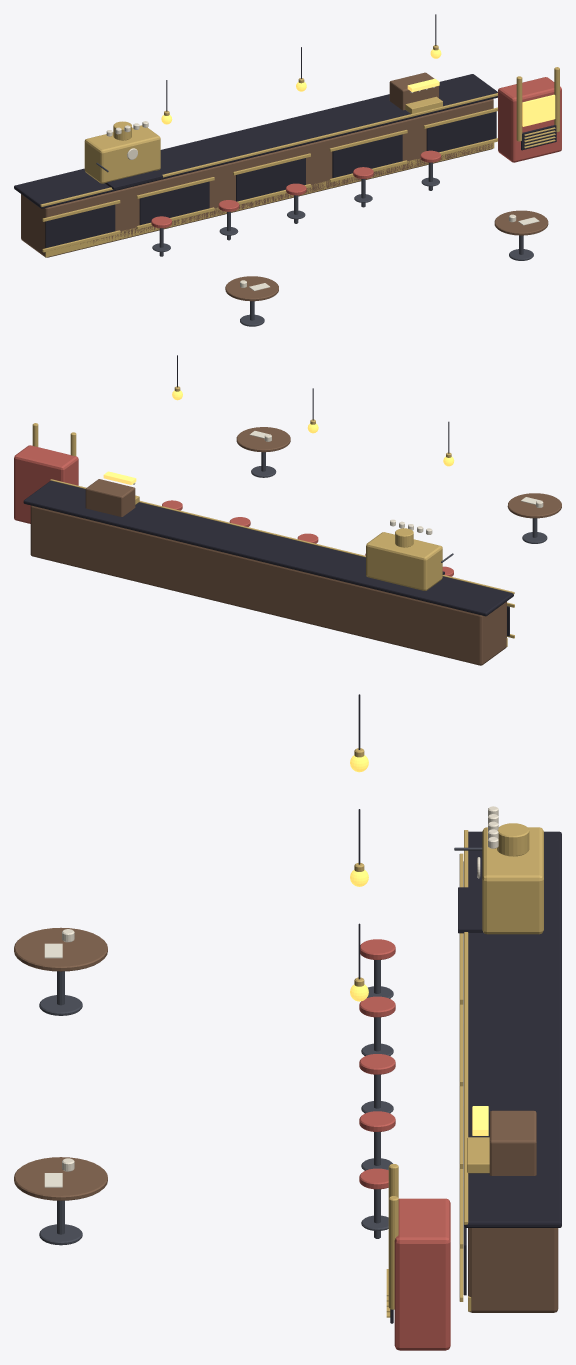
File: cafe-interior.glb
3 renders of one model, top to bottom at view 1: azimuth 30°, elevation 25°; view 2: azimuth 150°, elevation 25°; view 3: azimuth 270°, elevation 25°, orthographic. The views are drawn at different scales.
Parts seen in each view (by area): view 1: cafe long walnut counter body, cafe black stone counter top, espresso machine rounded brass body, jukebox red cabinet, cafe brass kickplate, cafe counter inset panel 0, cafe counter inset panel 4, cafe counter inset panel 1, cafe counter inset panel 3, cafe counter inset panel 2, cafe brass counter nosing, cash register dark base (+7 smaller); view 2: cafe long walnut counter body, cafe black stone counter top, espresso machine rounded brass body, jukebox red cabinet, cash register dark base, round cafe table top 0, round cafe table top 1, cafe brass counter nosing; view 3: cafe black stone counter top, jukebox red cabinet, cafe long walnut counter body, espresso machine rounded brass body, cash register dark base, round cafe table top 0, round cafe table top 1, cafe brass counter nosing, espresso black drip tray, espresso boiler dome, jukebox chrome arch right, cash register brass drawer.
Part boxes in pixels (x1,y1,x2,y2): cafe long walnut counter body: (21, 99, 493, 257); cafe black stone counter top: (14, 74, 497, 208); espresso machine rounded brass body: (84, 125, 160, 183); jukebox red cabinet: (498, 77, 561, 162); cafe brass kickplate: (45, 142, 494, 257); cafe counter inset panel 0: (45, 204, 115, 248); cafe counter inset panel 4: (426, 111, 496, 152); cafe counter inset panel 1: (139, 181, 209, 225); cafe counter inset panel 3: (332, 134, 402, 177); cafe counter inset panel 2: (236, 158, 305, 201); cafe brass counter nosing: (40, 93, 497, 207); cash register dark base: (389, 72, 438, 110); cafe long walnut counter body: (30, 505, 506, 665); cafe black stone counter top: (23, 480, 513, 616); espresso machine rounded brass body: (366, 532, 442, 590); jukebox red cabinet: (14, 445, 78, 523); cash register dark base: (85, 479, 135, 516); round cafe table top 0: (507, 493, 561, 518); round cafe table top 1: (236, 427, 290, 452); cafe brass counter nosing: (50, 479, 514, 594); cafe black stone counter top: (464, 831, 561, 1227); jukebox red cabinet: (394, 1198, 450, 1350); cafe long walnut counter body: (468, 1228, 558, 1312); espresso machine rounded brass body: (482, 827, 543, 934); cash register dark base: (489, 1110, 536, 1175); round cafe table top 0: (14, 927, 107, 971); round cafe table top 1: (14, 1157, 107, 1200); cafe brass counter nosing: (464, 830, 468, 1224); espresso black drip tray: (458, 887, 483, 933); espresso boiler dome: (497, 823, 529, 856); jukebox chrome arch right: (388, 1196, 398, 1309); cash register brass drawer: (467, 1137, 489, 1173).
Size of the model in its own units: 11.19 by 3.83 by 6.06.
